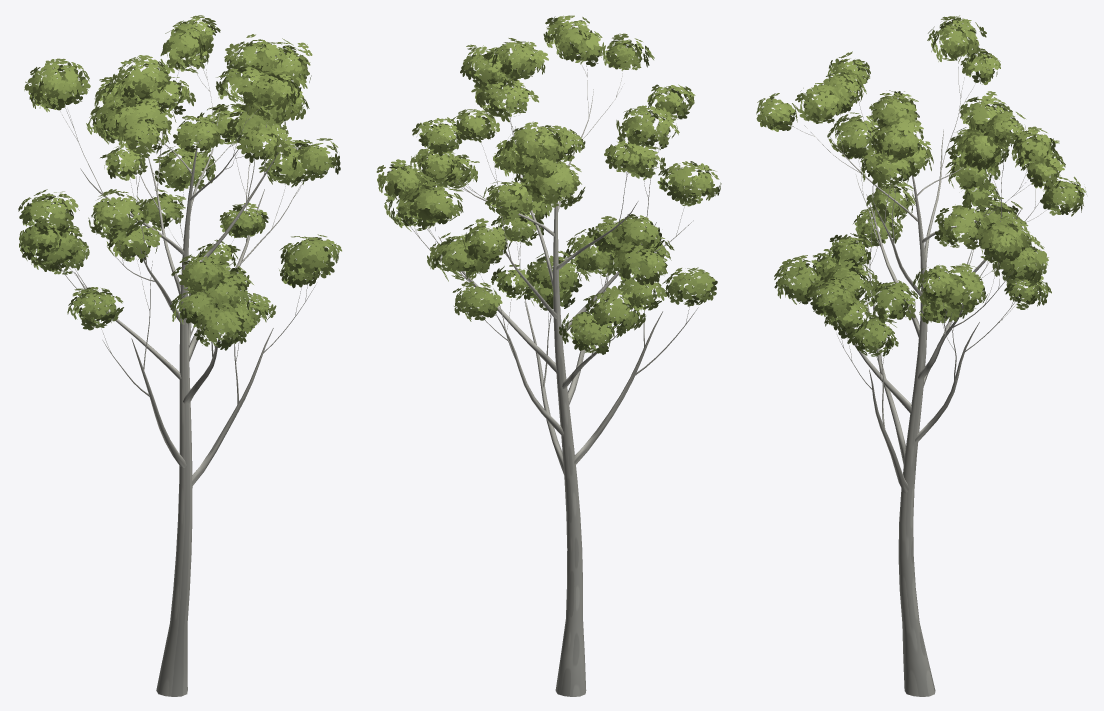
File: tree.gltf
3 views of the same model, side by side, from view 1: azimuth 30°, elevation 25°; view 2: azimuth 150°, elevation 25°; view 3: azimuth 270°, elevation 25° (orthographic). The views are drawn at different scales.
Visible parts, largest first — view 1: Tree_LOD0; view 2: Tree_LOD0; view 3: Tree_LOD0.
Boxes of the visible parts, left/top/right/bottom form: Tree_LOD0: left=18, top=15, right=341, bottom=696; Tree_LOD0: left=376, top=15, right=721, bottom=696; Tree_LOD0: left=756, top=15, right=1086, bottom=696.
Bounding box in the file's own units: 12.12 × 24.3 × 11.69.
Materials: 2 (2 with a texture image).
